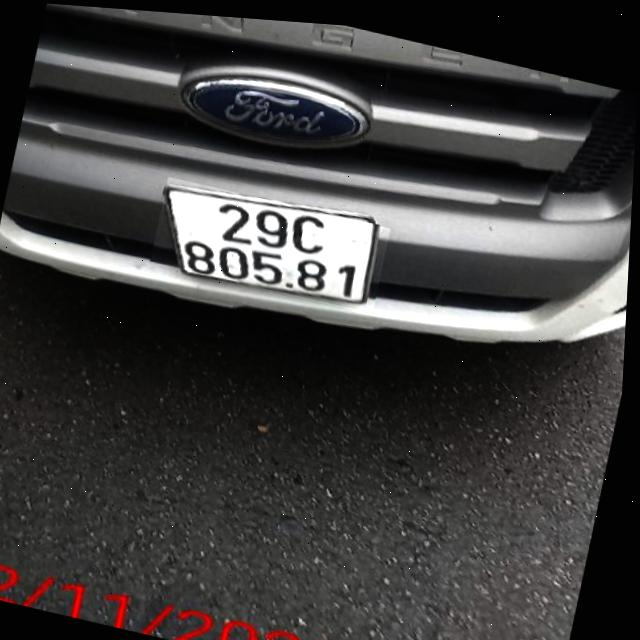car: (0, 0, 640, 437)
plate: (143, 160, 397, 335)
